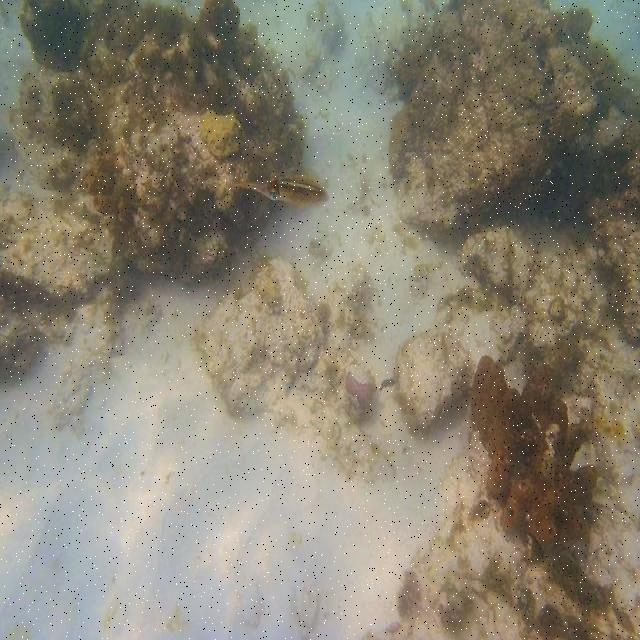fish: (226, 176, 331, 212)
reefs: (469, 356, 597, 546)
sea-floor: (363, 0, 639, 639), (0, 0, 307, 437), (195, 257, 394, 482)
